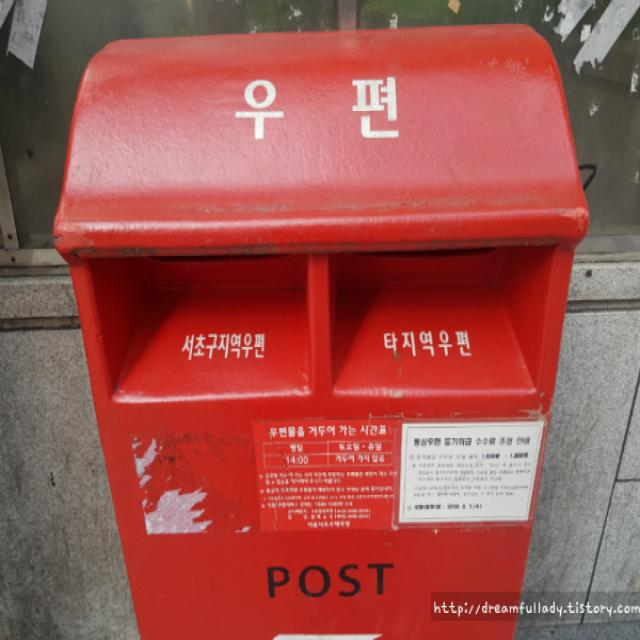Post Box: (52, 23, 591, 640)
